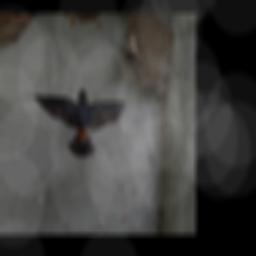Swallow: (30, 87, 126, 158)
